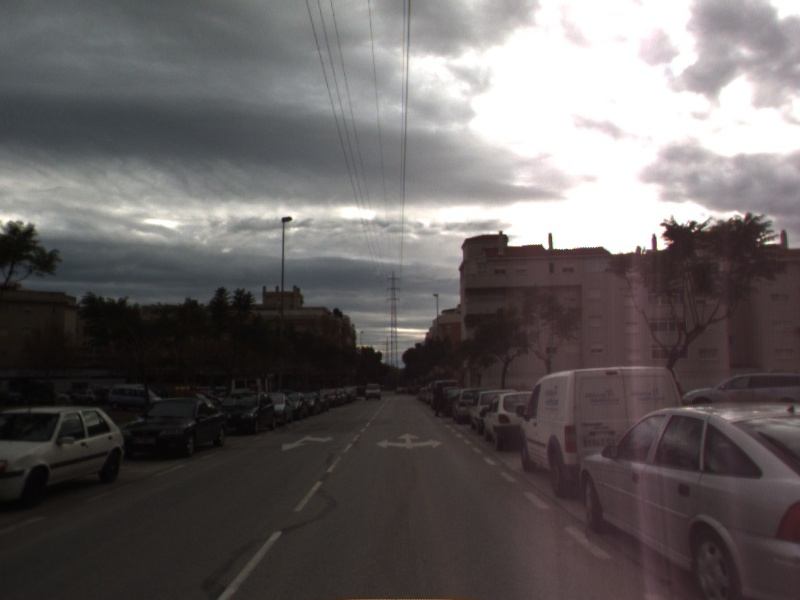STRAIGHT_LEFT_RIGHT: (374, 430, 446, 451)
